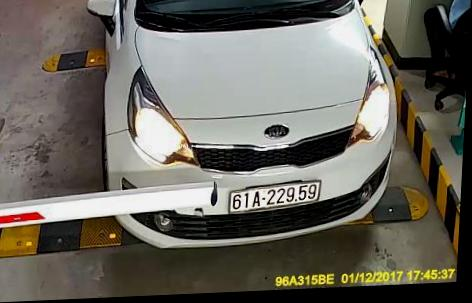License_Plate: (222, 177, 324, 214)
